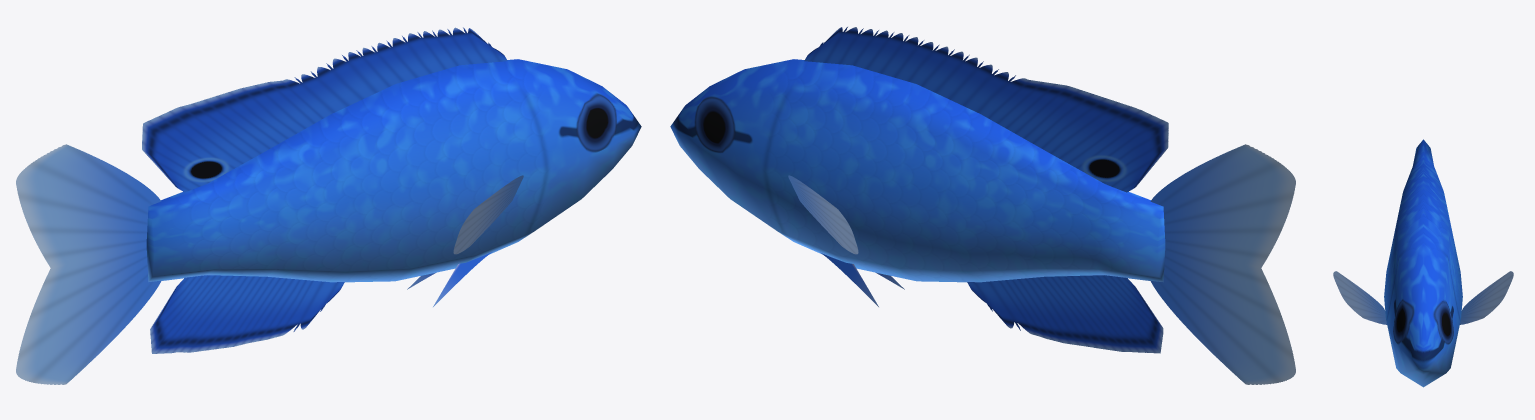
File: Fish_SapphireDevil_F.gltf
3 renders of one model, left to right at view 1: azimuth 30°, elevation 25°; view 2: azimuth 150°, elevation 25°; view 3: azimuth 270°, elevation 25°, orthographic. The views are drawn at different scales.
Parts seen in each view (by area): view 1: Fish_SapphireDevil_F; view 2: Fish_SapphireDevil_F; view 3: Fish_SapphireDevil_F.
Boxes of the visible parts, x1,y1,x2,y2 form: Fish_SapphireDevil_F: (16,27,641,384); Fish_SapphireDevil_F: (670,27,1295,384); Fish_SapphireDevil_F: (1333,139,1513,387).
Bounding box in the file's own units: 0.0586 × 0.0289 × 0.0195.
Materials: 1 (1 with a texture image).
